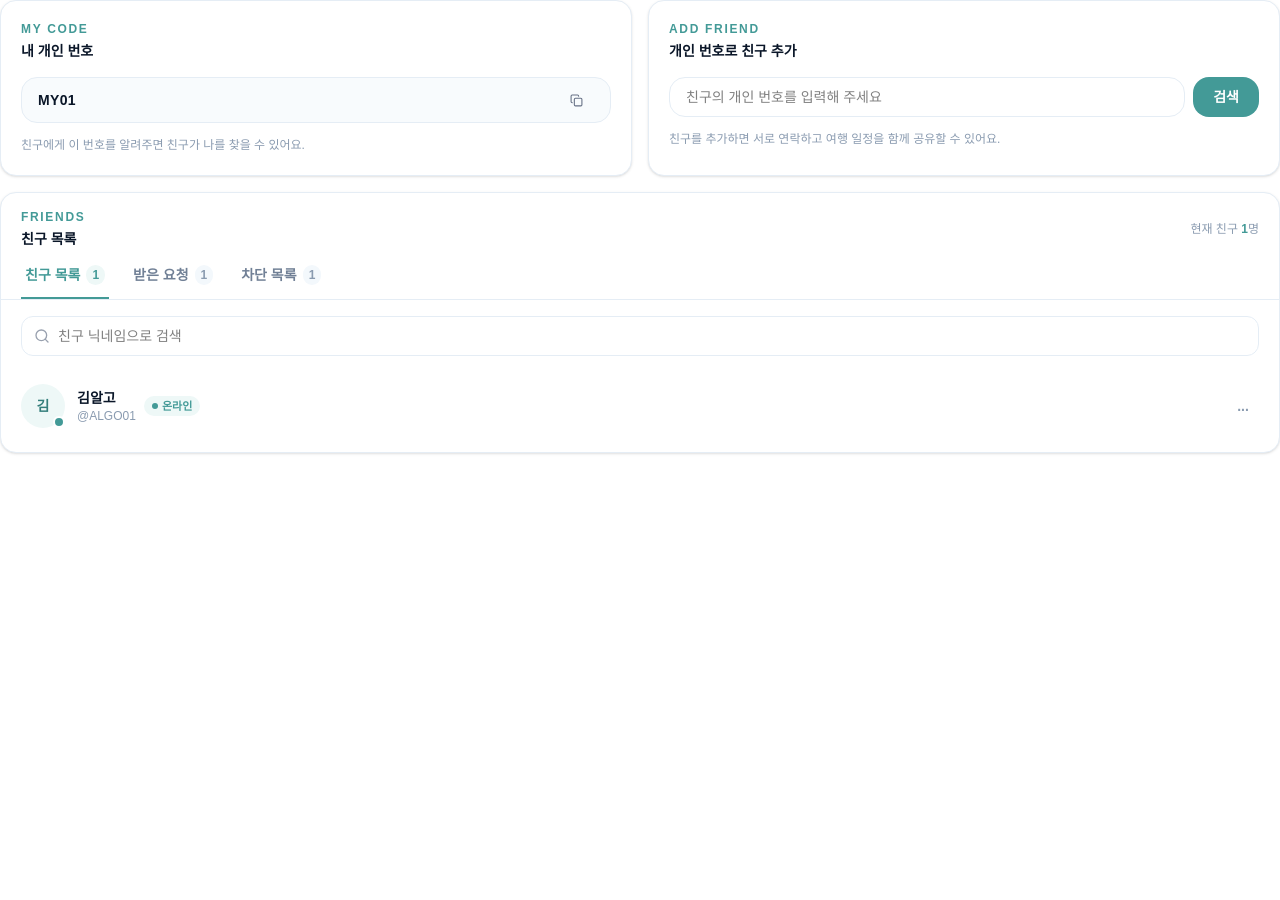
it: FriendManagement 컴포넌트 테스트 › 친구를 차단하면 재조회 없이 차단 목록에 바로 반영된다
Expected: the text "김알고" is shown, [77, 390, 116, 406]
Click the button named "김알고 친구 메뉴 열기": [1243, 406] box [1227, 390, 1259, 422]
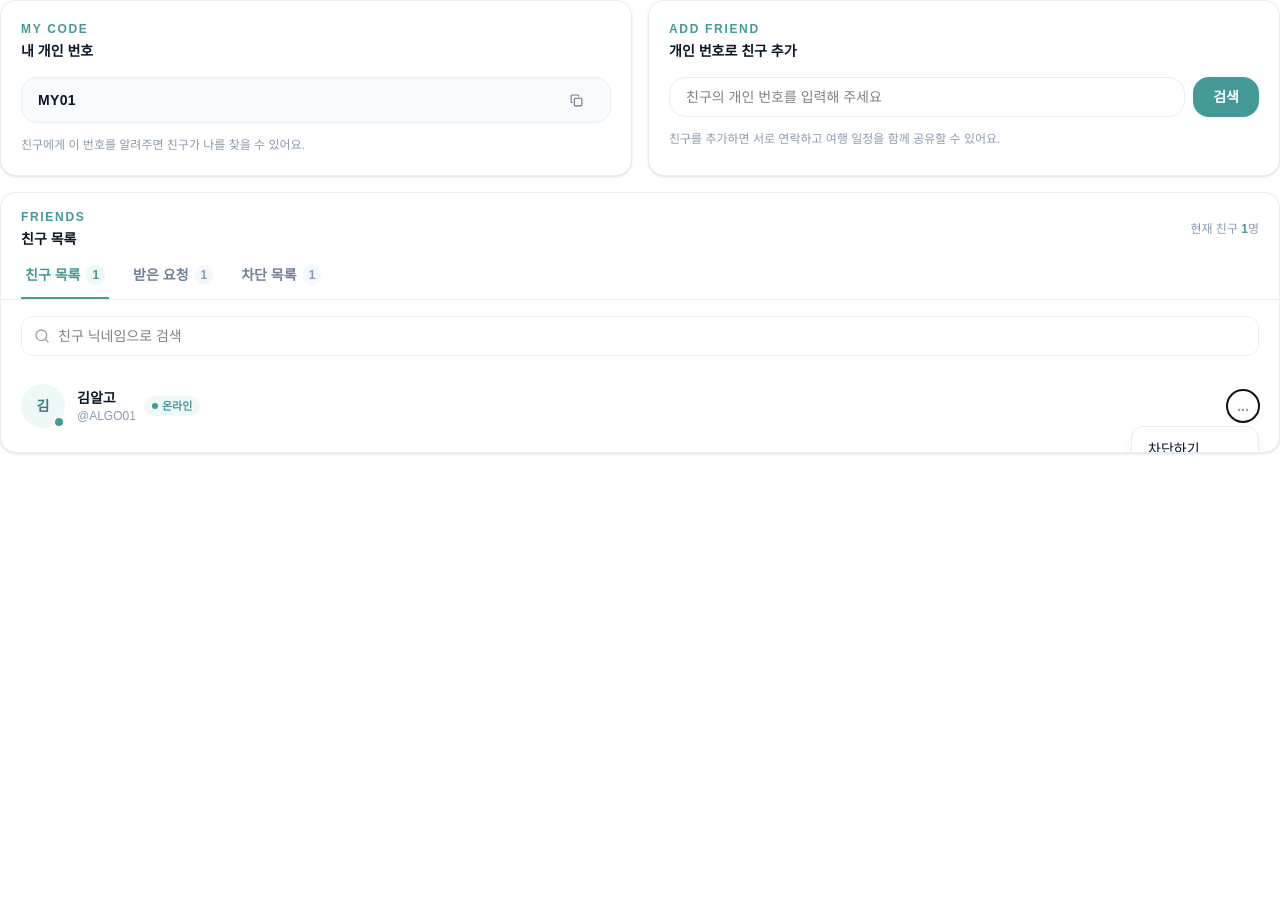
Click the button "차단하기": [1195, 449] box [1132, 431, 1258, 467]
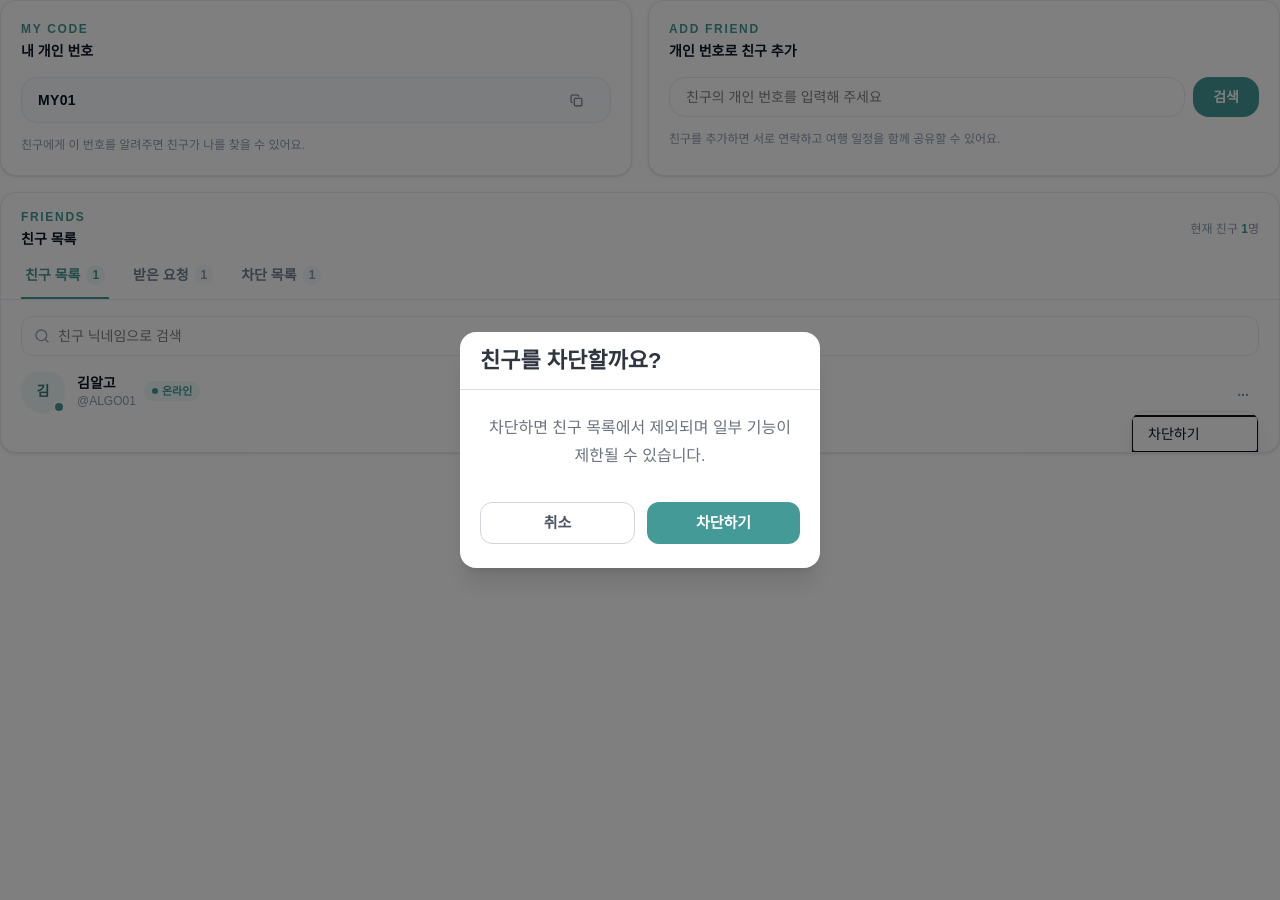
Click the button "차단하기": [724, 523] box [647, 502, 800, 544]
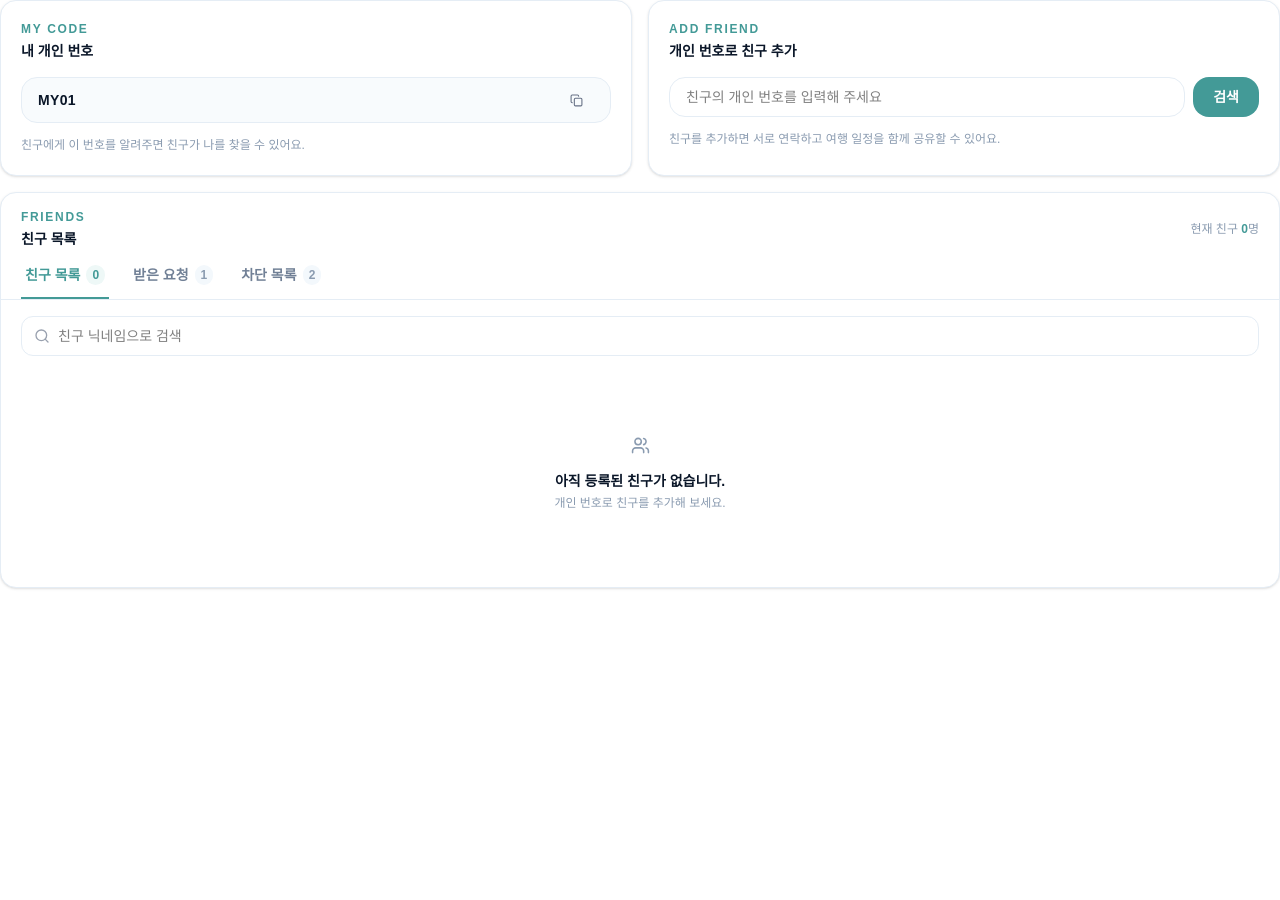
Expected: the text "김알고" is gone
Click the button "차단 목록 2": [281, 282] box [237, 265, 325, 299]
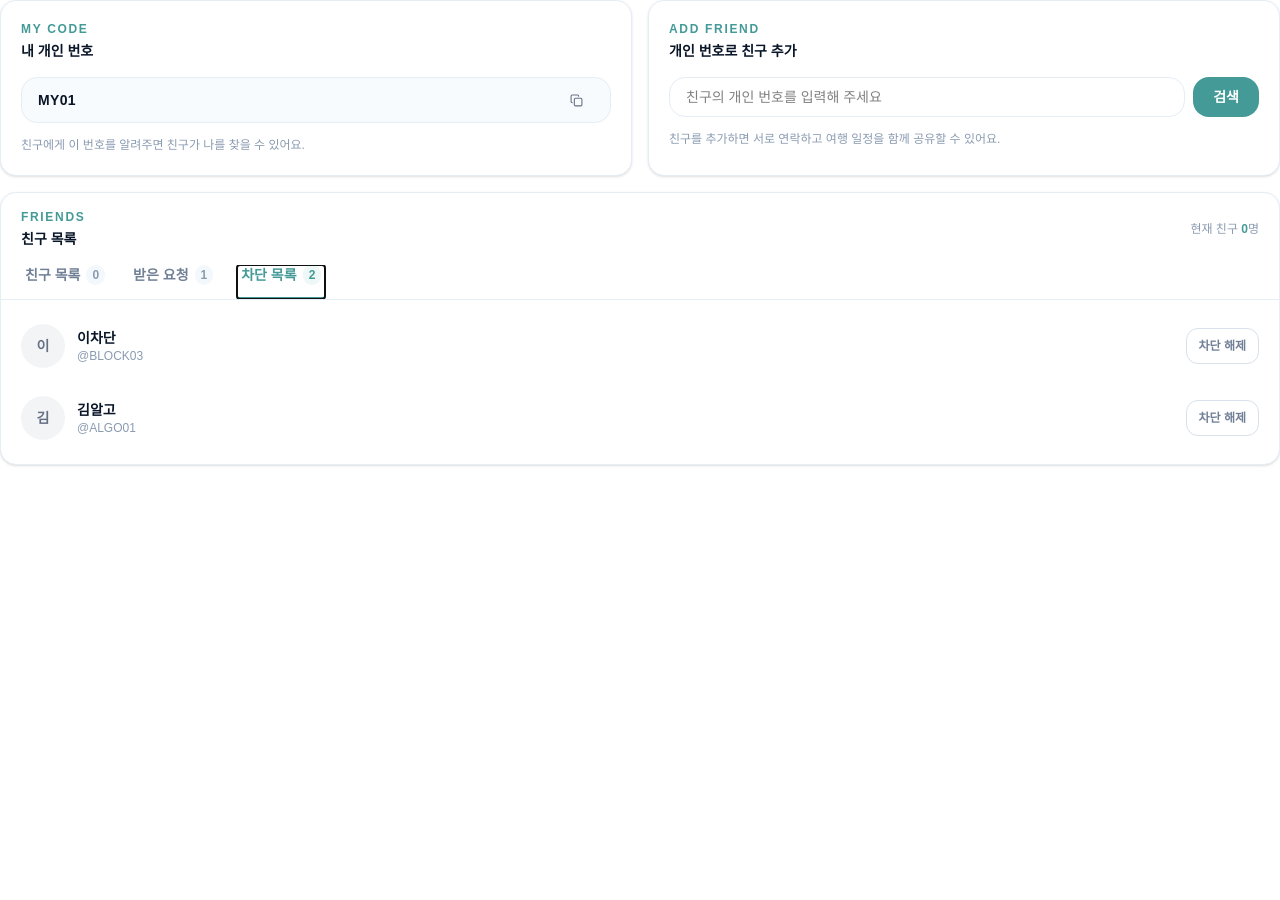
Expected: the text "김알고" is shown, [77, 402, 116, 418]
